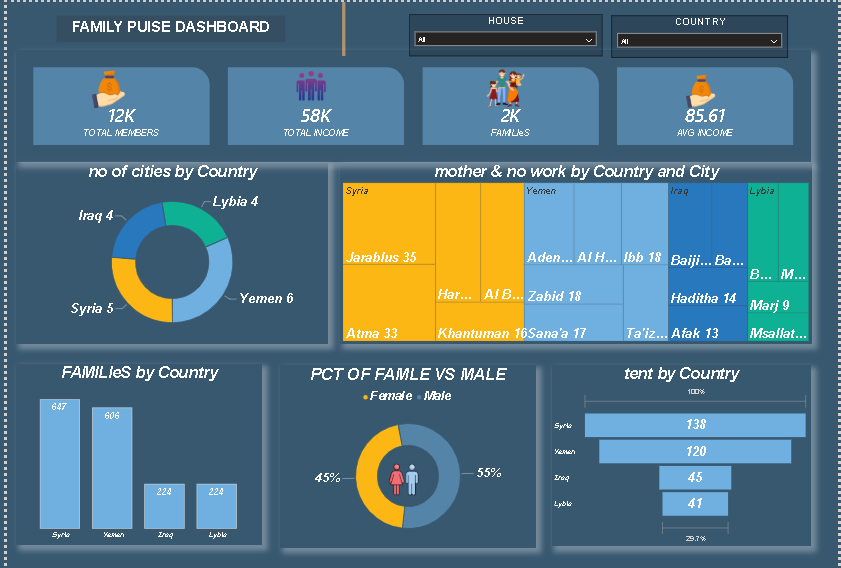

The dashboard page shown, as its layout file describes it:
{"tool":"powerbi","page":{"name":"Page 1","canvas":[1500,1250],"ordinal":0},"visuals":[{"type":"slicer","title":"COUNTRY","fields":{"Values":["Needs.Country"]},"box":[1090.9,23.8,318.2,75.8],"z":0},{"type":"image","box":[151,120.2,94.2,69.1],"z":0,"group":"g2"},{"type":"textbox","box":[90.4,23.4,413,48.3],"z":1000},{"type":"group","id":"g1","title":"Group 2","box":[16.2,86.6,1434,202.9],"z":1000,"group":"g2"},{"type":"slicer","title":"HOUSE","fields":{"Values":["Needs.House"]},"box":[725.1,21.6,348.5,75.8],"z":2000},{"type":"shape","box":[8.1,0,1198.6,97.4],"z":3000},{"type":"clusteredColumnChart","fields":{"Category":["Needs.Country"],"Y":["MEASUERE.FAMILIeS"]},"box":[16.2,652.1,443.7,327.4],"z":4000},{"type":"donutChart","title":"PCT OF FAMLE VS MALE","fields":{"Y":["Sum(Needs.Female)","Sum(Needs.Male)"]},"box":[493.5,653.7,461,329],"z":5000},{"type":"image","box":[686.1,816,56.3,88.7],"z":6000},{"type":"group","id":"g2","title":"Group 1","box":[16.2,86.6,1434,202.9],"z":7000},{"type":"cardVisual","fields":{"Data":["MEASUERE.TOTAL MEMBERS","MEASUERE.TOTAL INCOME","MEASUERE.FAMILIeS","MEASUERE.AVG INCOME"]},"box":[16.2,86.6,1434,202.9],"z":8000,"group":"g1"},{"type":"donutChart","fields":{"Y":["MEASUERE.no of cities"],"Category":["Needs.Country"]},"box":[15.2,290,562.8,326.8],"z":8000},{"type":"funnel","fields":{"Y":["MEASUERE.tent"],"Category":["Needs.Country"]},"box":[982.1,654.8,468.1,327.4],"z":9000},{"type":"treemap","fields":{"Group":["Needs.Country"],"Details":["Needs.City"],"Values":["MEASUERE.mother & no work"]},"box":[599.6,290,850.6,326.8],"z":10000},{"type":"image","box":[839.8,121.2,121.2,67.1],"z":11000},{"type":"image","box":[1207.8,129.9,88.7,62.8],"z":12000},{"type":"image","box":[504.3,121.2,90.9,58.4],"z":13000},{"type":"image","box":[136.4,121.2,95.2,71.4],"z":14000}]}

Visuals, with their boxes on the page's 1500x1250 design canvas (x1, y1, x2, y2). These are canvas units, not pixel positions in the 841x568 screenshot, which may show the page scaled, cropped or inside an application window:
"COUNTRY" slicer: box=[1091, 24, 1409, 100]
image: box=[151, 120, 245, 189]
textbox: box=[90, 23, 503, 72]
"Group 2" group: box=[16, 87, 1450, 290]
"HOUSE" slicer: box=[725, 22, 1074, 97]
shape: box=[8, 0, 1207, 97]
clusteredColumnChart - Needs.Country x MEASUERE.FAMILIeS: box=[16, 652, 460, 980]
"PCT OF FAMLE VS MALE" donutChart: box=[494, 654, 954, 983]
image: box=[686, 816, 742, 905]
"Group 1" group: box=[16, 87, 1450, 290]
cardVisual - MEASUERE.TOTAL MEMBERS x MEASUERE.TOTAL INCOME: box=[16, 87, 1450, 290]
donutChart - MEASUERE.no of cities x Needs.Country: box=[15, 290, 578, 617]
funnel - MEASUERE.tent x Needs.Country: box=[982, 655, 1450, 982]
treemap - Needs.Country x Needs.City: box=[600, 290, 1450, 617]
image: box=[840, 121, 961, 188]
image: box=[1208, 130, 1296, 193]
image: box=[504, 121, 595, 180]
image: box=[136, 121, 232, 193]
